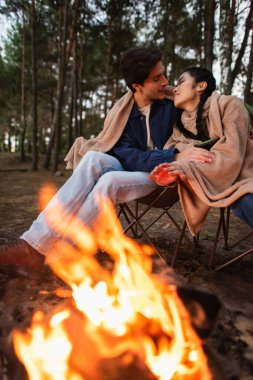fire: (33, 192, 176, 371)
